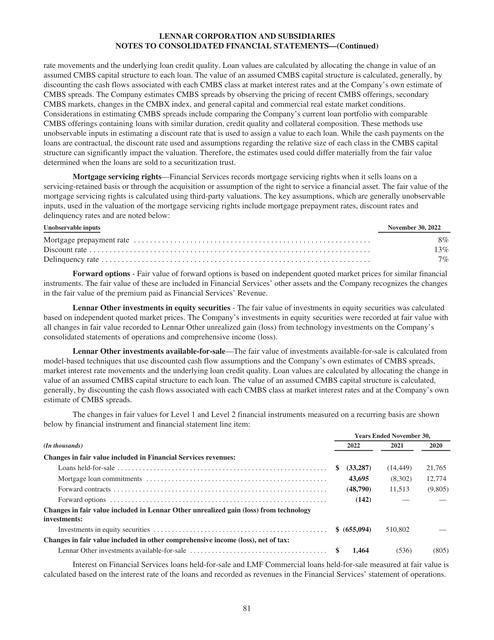box: (41, 432, 452, 557), (40, 222, 451, 265)
